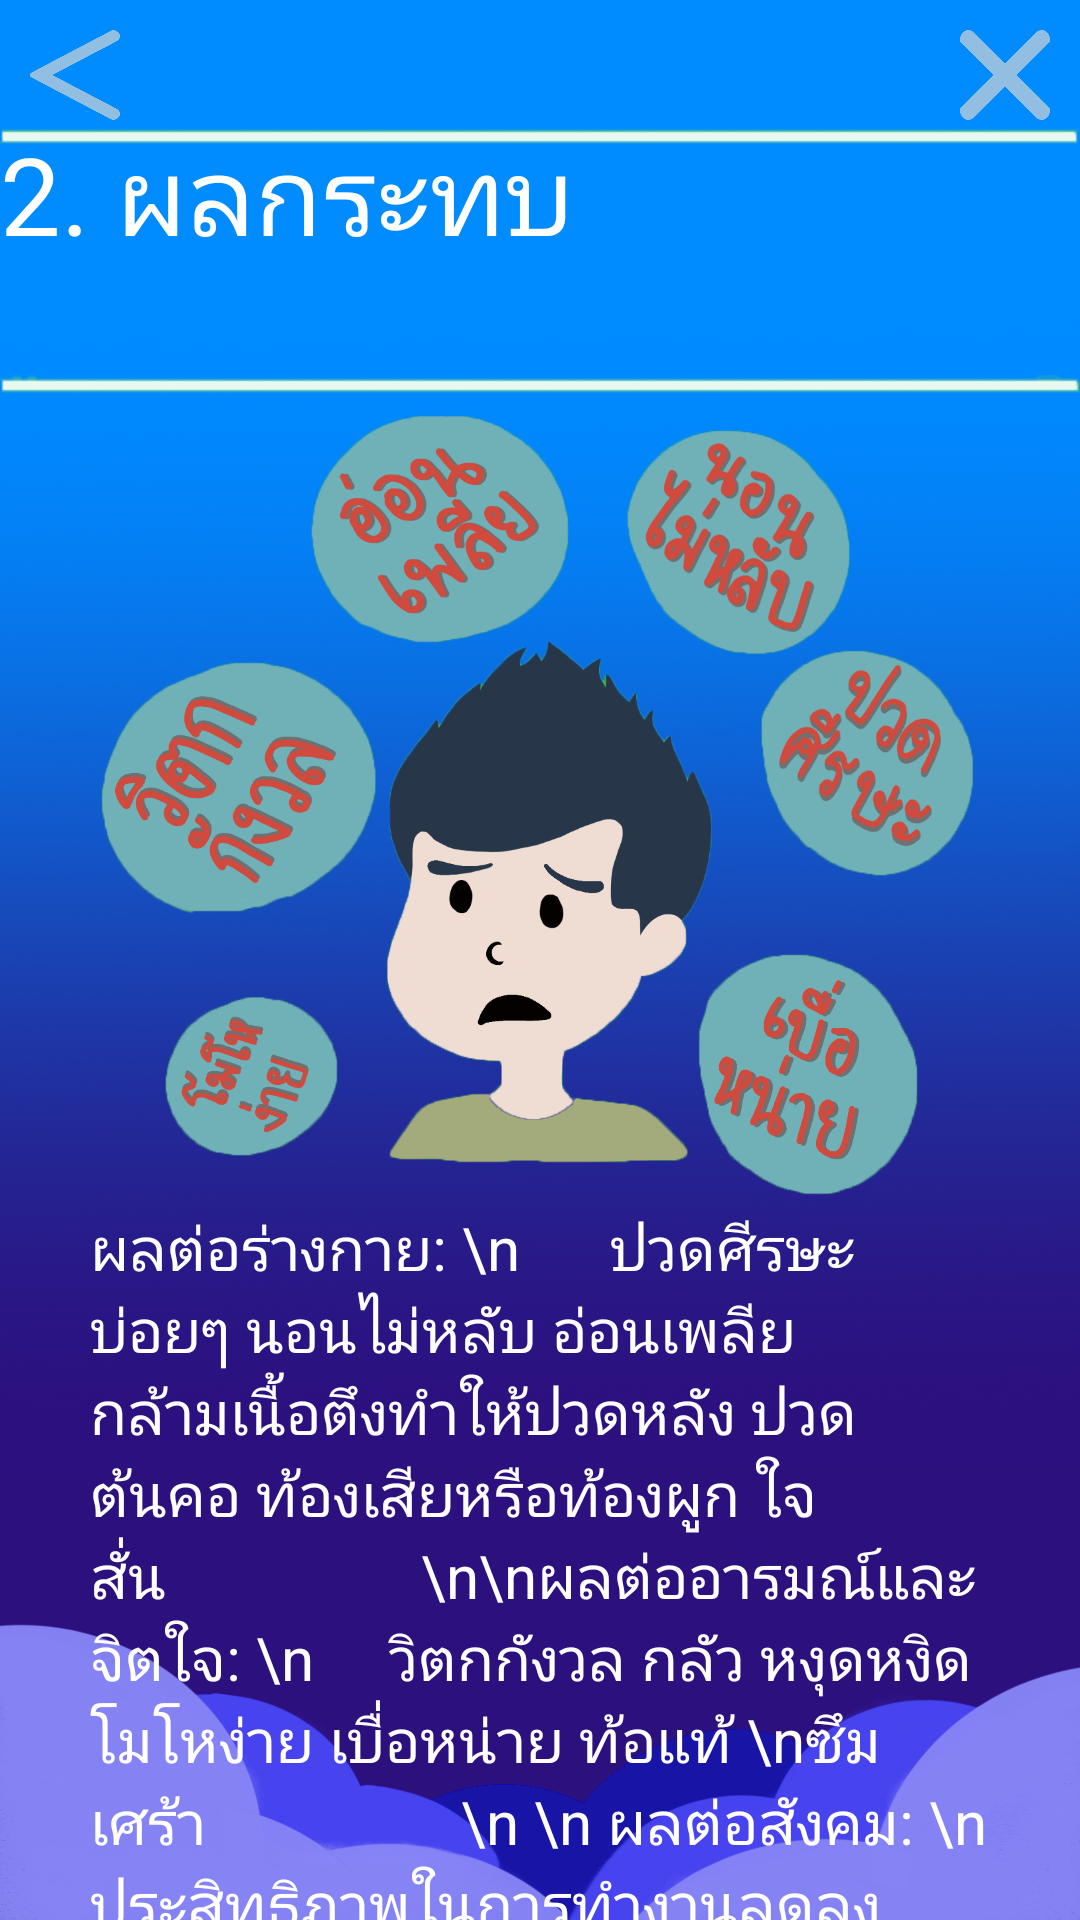

Where to tap for icons on this 1080x1920 app screen, as [x,y]:
backbut: [75,75]
exit: [1005,75]
